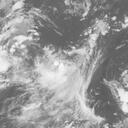cyclone: (37, 46, 89, 99)
